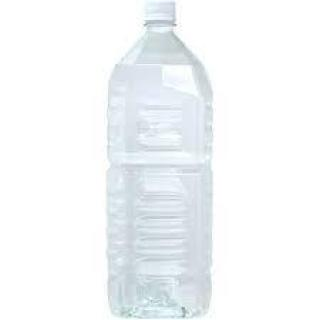Plastic-bottle: (104, 1, 219, 320)
